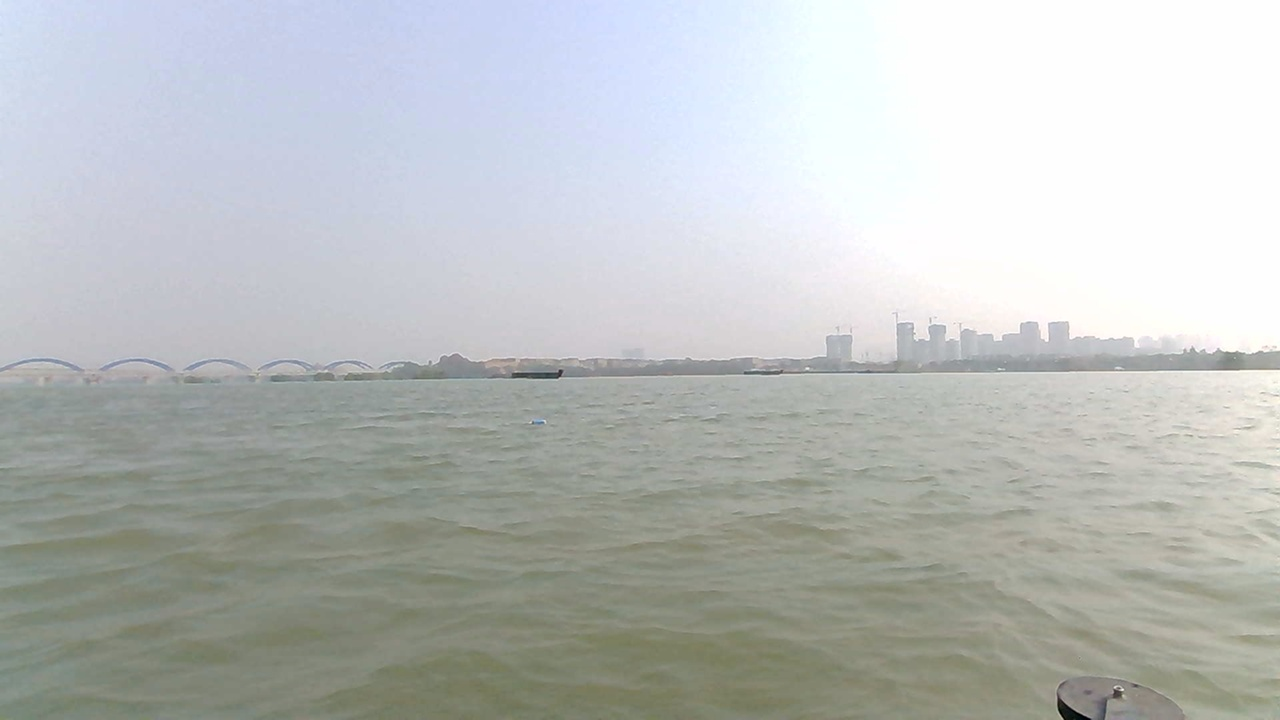bottle: (524, 415, 553, 429)
